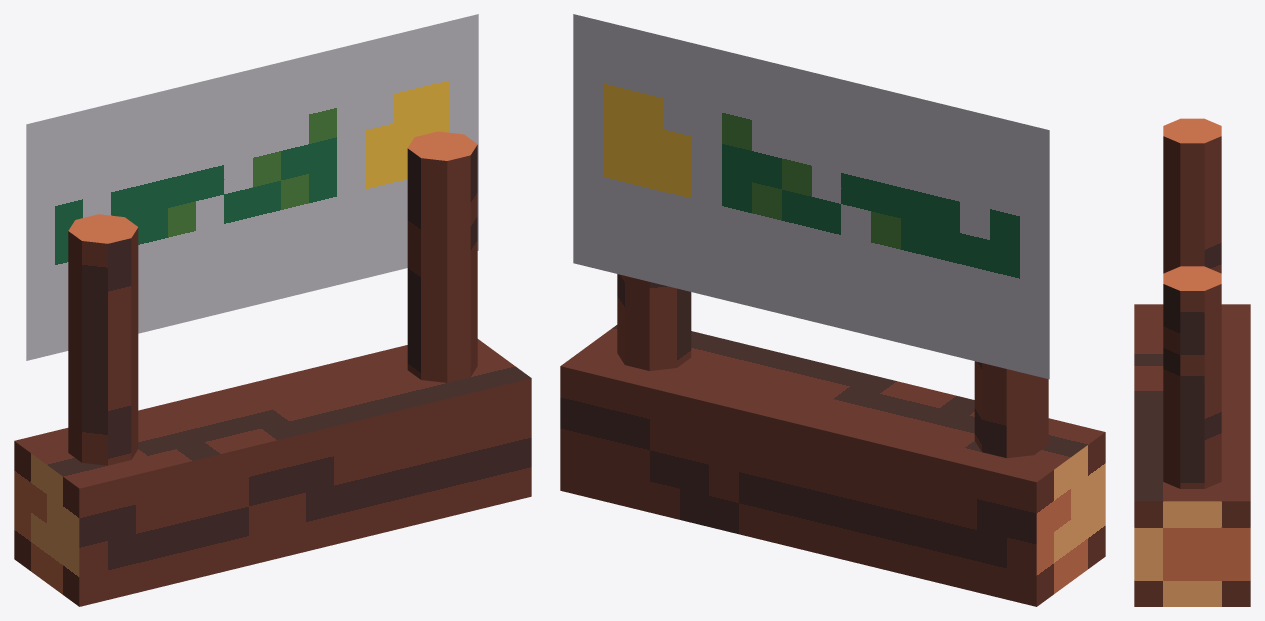
The model's file is shop_potato.gltf.
3 views of the same model, side by side, from view 1: azimuth 30°, elevation 25°; view 2: azimuth 150°, elevation 25°; view 3: azimuth 270°, elevation 25° (orthographic). The views are drawn at different scales.
Visible parts, largest first — view 1: plane, cuboid, cylinder (×2); view 2: plane, cuboid, cylinder (×2); view 3: cuboid, cylinder (×2).
Boxes of the visible parts, <box> form: plane: <box>26,14,478,360</box>; cuboid: <box>14,339,531,606</box>; cylinder (×2): <box>68,131,477,465</box>; plane: <box>573,14,1049,379</box>; cuboid: <box>560,325,1105,606</box>; cylinder (×2): <box>617,274,1048,458</box>; cuboid: <box>1134,304,1250,606</box>; cylinder (×2): <box>1163,118,1221,488</box>.
Size of the model in its own units: 1 by 0.9375 by 0.25.
Materials: 1 (1 with a texture image).
